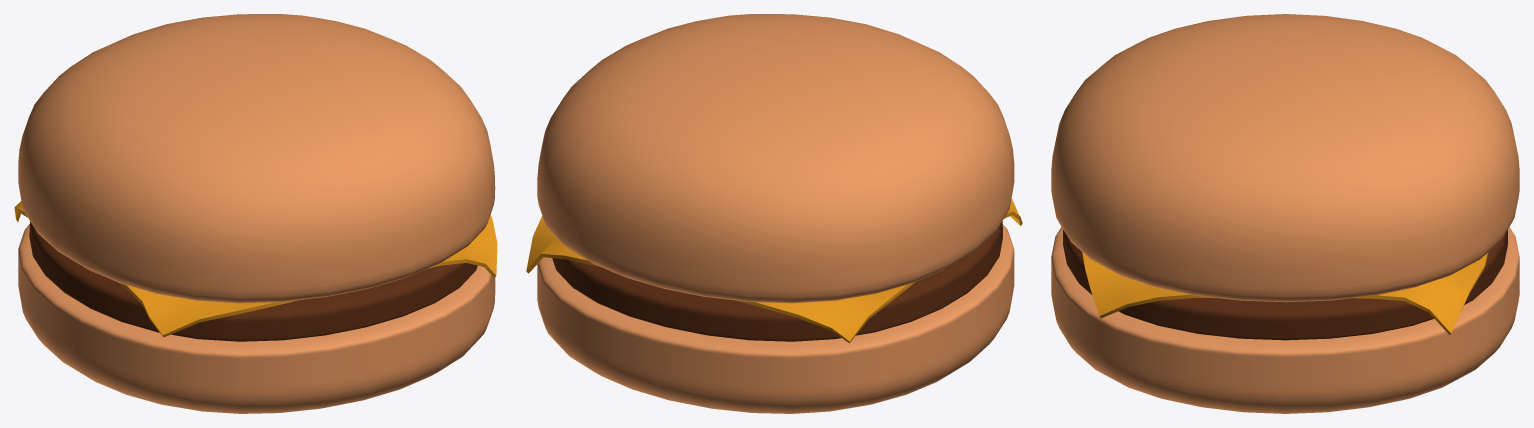
Rendered from burger.glb.
3 views of the same model, side by side, from view 1: azimuth 30°, elevation 25°; view 2: azimuth 150°, elevation 25°; view 3: azimuth 270°, elevation 25° (orthographic).
Visible parts, largest first — view 1: TopBun, BottomBun, Meat, Cheese; view 2: TopBun, BottomBun, Meat, Cheese; view 3: TopBun, BottomBun, Meat, Cheese.
Part boxes in pixels (x1,y1,x2,y2): TopBun: [18, 14, 495, 303]; BottomBun: [18, 224, 495, 413]; Meat: [29, 221, 477, 341]; Cheese: [14, 201, 497, 337]; TopBun: [537, 14, 1014, 303]; BottomBun: [537, 224, 1014, 413]; Meat: [552, 221, 1002, 341]; Cheese: [526, 198, 1022, 343]; TopBun: [1051, 14, 1519, 302]; BottomBun: [1051, 227, 1519, 413]; Meat: [1063, 229, 1507, 340]; Cheese: [1082, 252, 1488, 334].
Bounding box in the file's own units: 9.17 × 6.15 × 9.17.
